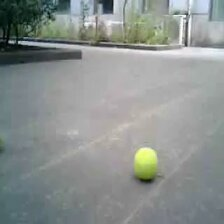tennis: (134, 149, 156, 180)
